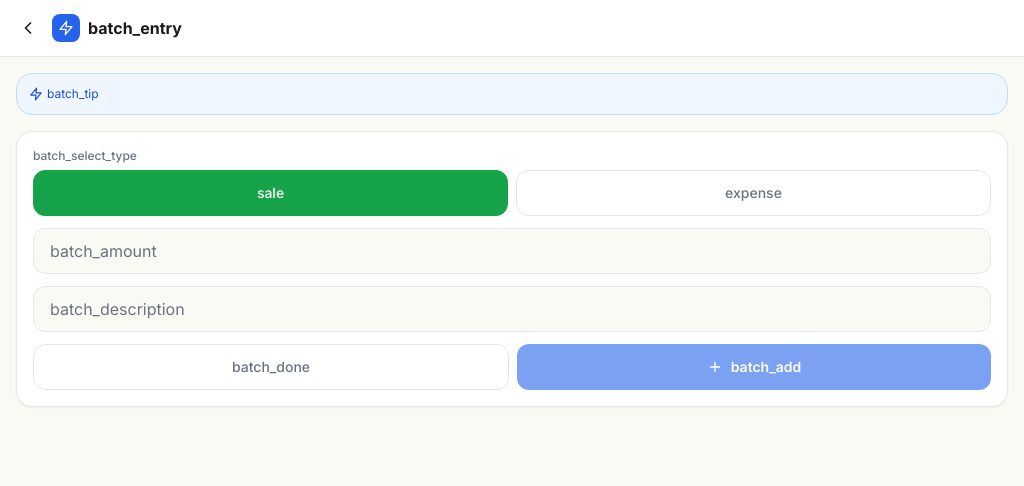
Test: BatchEntryScreen › increments count after adding entry
The image size is (1024, 486).
Step 1. Type "500" into the number field with placeholder "batch_amount" → {"x": 512, "y": 251}, box x1=33 y1=228 x2=991 y2=274
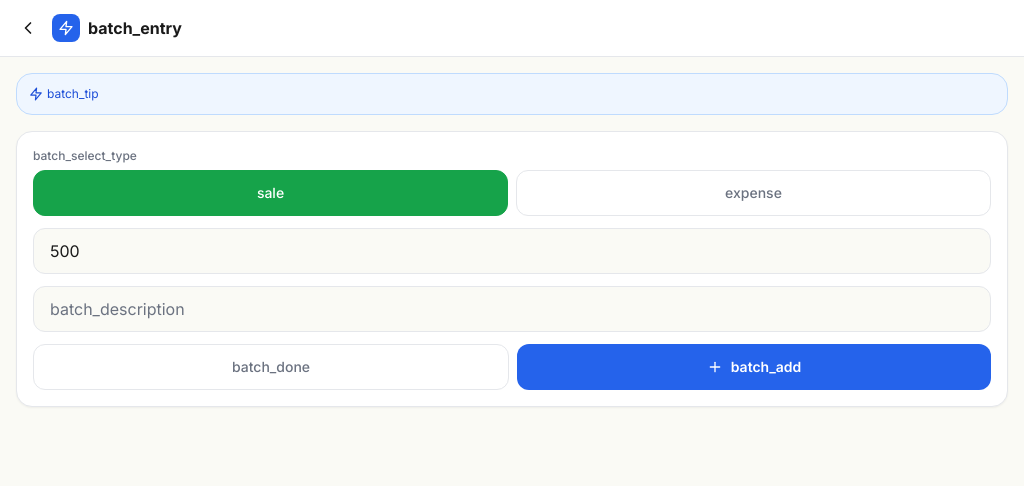
Step 2. Click the button "batch_add" → {"x": 754, "y": 367}, box x1=517 y1=344 x2=991 y2=390
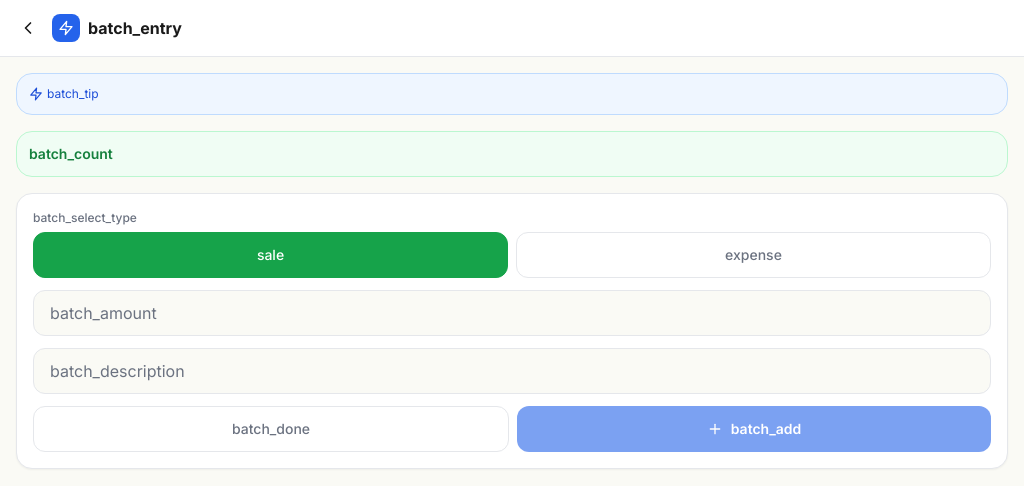
expect the text "batch_count" is shown: met, box x1=29 y1=145 x2=113 y2=162
